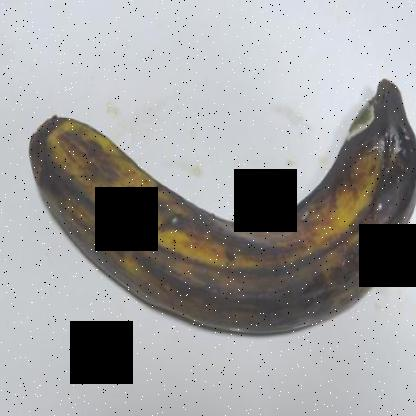rotten: (17, 47, 415, 353)
